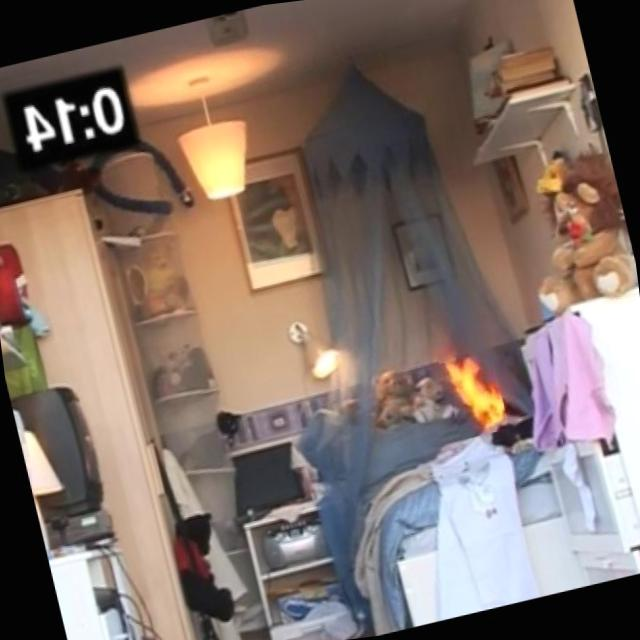fire: (406, 332, 536, 455)
